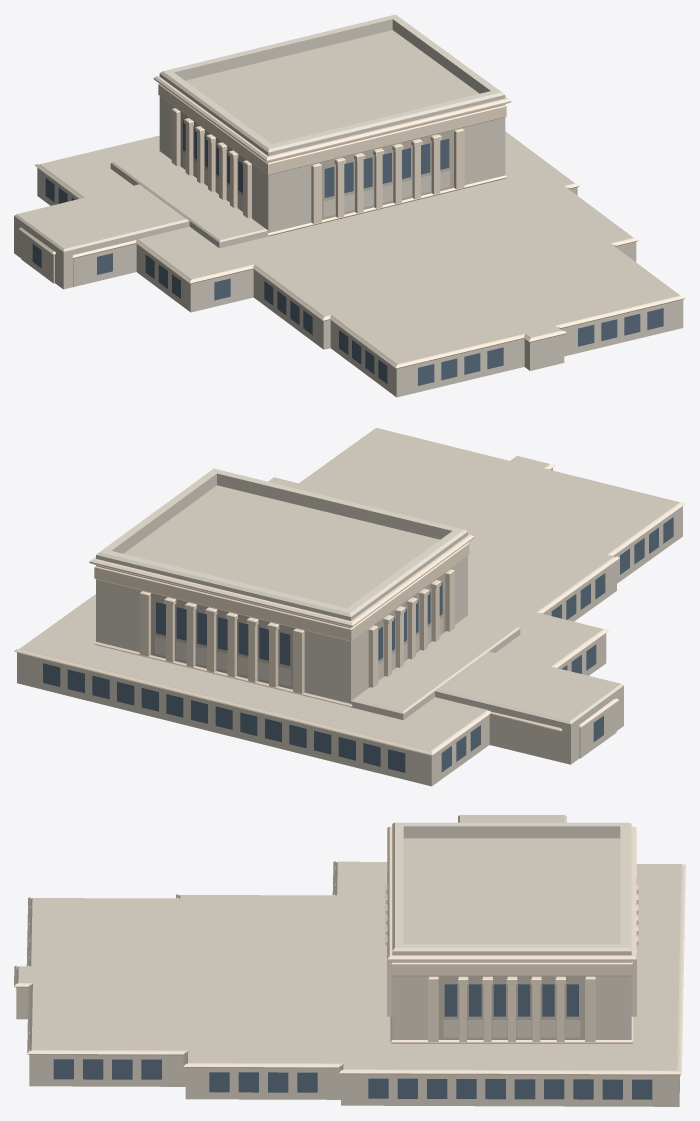
Rendered from phx-mesa-arizona-temple.glb.
3 views of the same model, one above another, from view 1: azimuth 30°, elevation 25°; view 2: azimuth 150°, elevation 25°; view 3: azimuth 270°, elevation 25° (orthographic). The views are drawn at different scales.
Parts seen in each view (by area): view 1: Mesa Arizona Temple; view 2: Mesa Arizona Temple; view 3: Mesa Arizona Temple.
Boxes of the visible parts, box(x1,y1,x2,y2) form: Mesa Arizona Temple: box(14, 14, 685, 397); Mesa Arizona Temple: box(14, 427, 685, 786); Mesa Arizona Temple: box(14, 815, 685, 1106).
Bounding box in the file's own units: 67.21 × 16.2 × 75.75.
